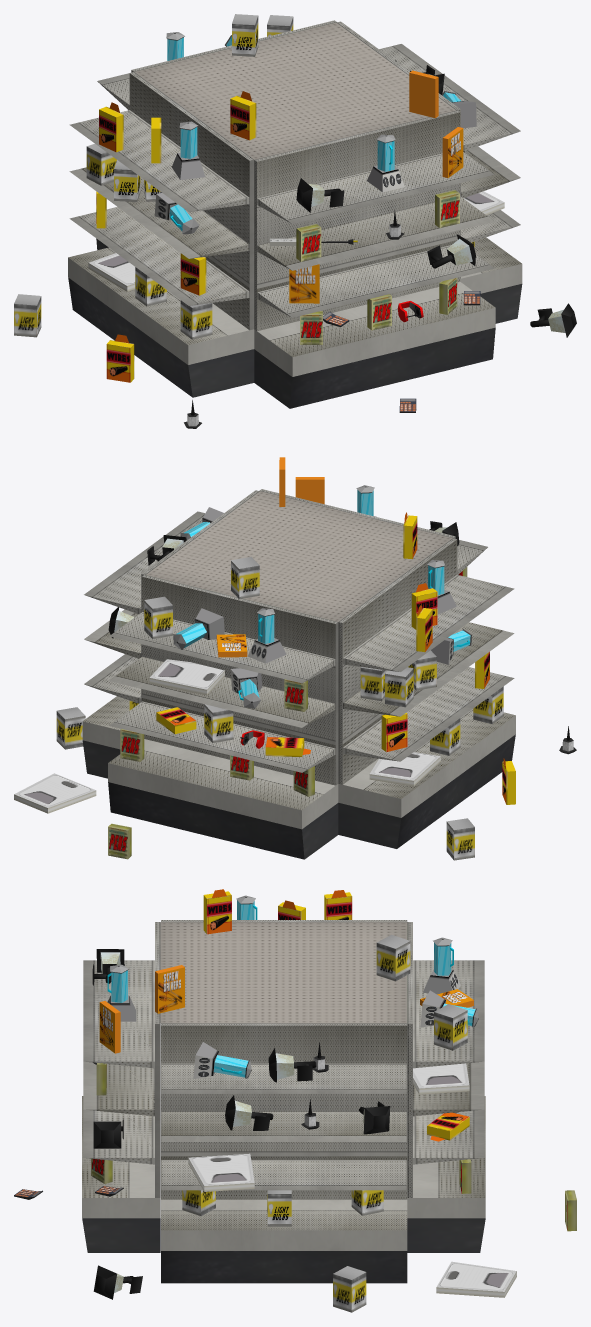
The model's file is Messy_FourSidedShelf_TypeB.fbx.
3 renders of one model, top to bottom at view 1: azimuth 30°, elevation 25°; view 2: azimuth 150°, elevation 25°; view 3: azimuth 270°, elevation 25°, orthographic. The views are drawn at different scales.
Visible parts, largest first — view 1: Messy_FourSidedShelf_TypeB; view 2: Messy_FourSidedShelf_TypeB; view 3: Messy_FourSidedShelf_TypeB.
Part boxes in pixels (x1,y1,x2,y2): Messy_FourSidedShelf_TypeB: [14, 14, 576, 428]; Messy_FourSidedShelf_TypeB: [14, 457, 576, 860]; Messy_FourSidedShelf_TypeB: [14, 889, 576, 1312].
Bounding box in the file's own units: 455 × 256 × 476.
